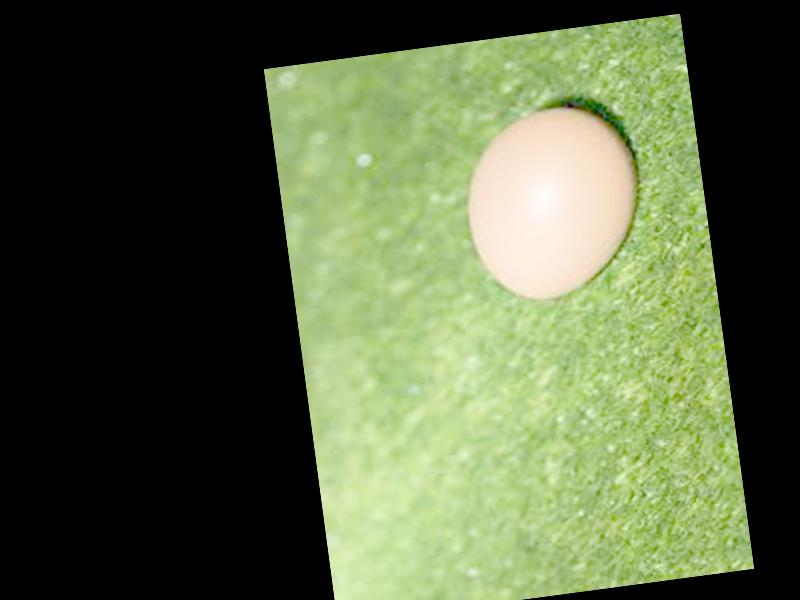Eggs: (458, 97, 652, 309)
